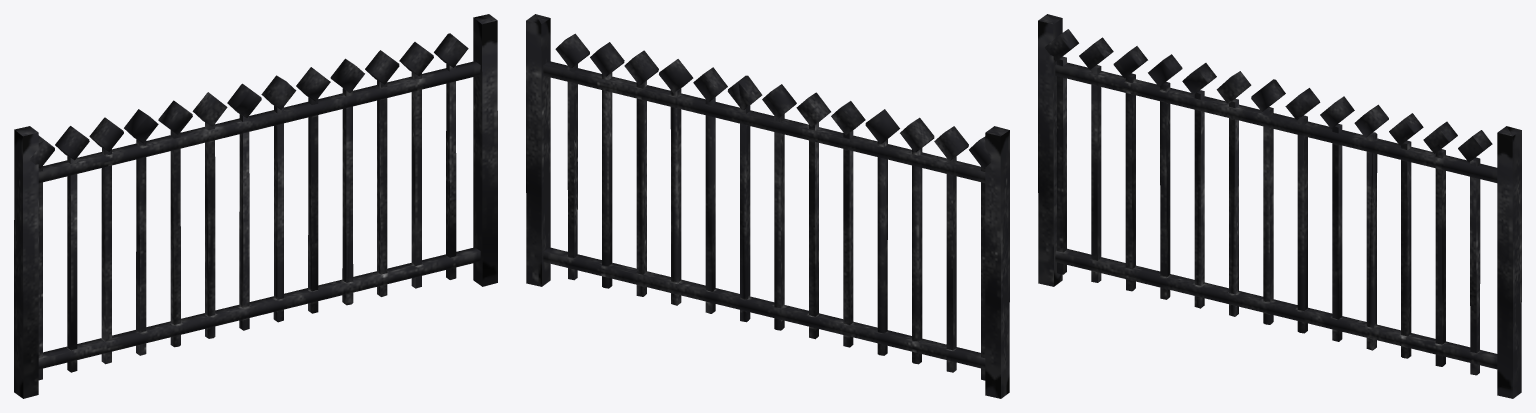
The model's file is Prop_Reja.fbx.
The picture shows the model from 3 angles, left to right: view 1: azimuth 30°, elevation 25°; view 2: azimuth 150°, elevation 25°; view 3: azimuth 330°, elevation 25°; orthographic projection.
Parts seen in each view (by area): view 1: Prop_Reja; view 2: Prop_Reja; view 3: Prop_Reja.
Boxes of the visible parts, box(x1,y1,x2,y2) form: Prop_Reja: box(14, 14, 497, 398); Prop_Reja: box(526, 14, 1009, 398); Prop_Reja: box(1038, 14, 1521, 398).
Bounding box in the file's own units: 8.28 × 4.38 × 0.3.
